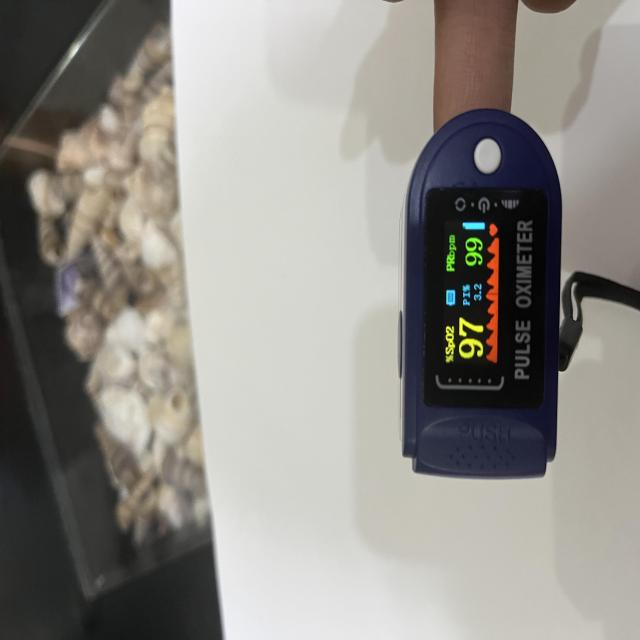spo2: (399, 109, 564, 482)
